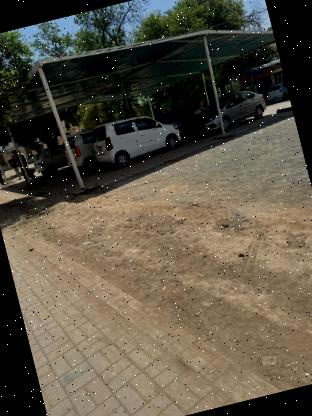car: (88, 103, 187, 171), (183, 83, 270, 138), (58, 123, 102, 174), (27, 138, 70, 178)
